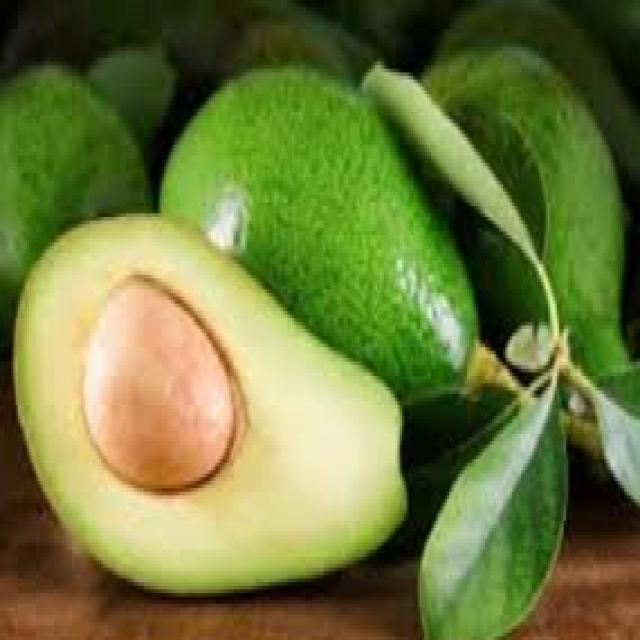organic waste: (9, 202, 404, 586), (155, 65, 519, 441), (413, 36, 638, 409), (0, 58, 150, 340), (415, 376, 566, 636), (424, 3, 638, 185), (364, 61, 541, 268), (83, 279, 238, 488), (566, 368, 638, 502), (224, 11, 364, 76), (85, 40, 175, 137)
